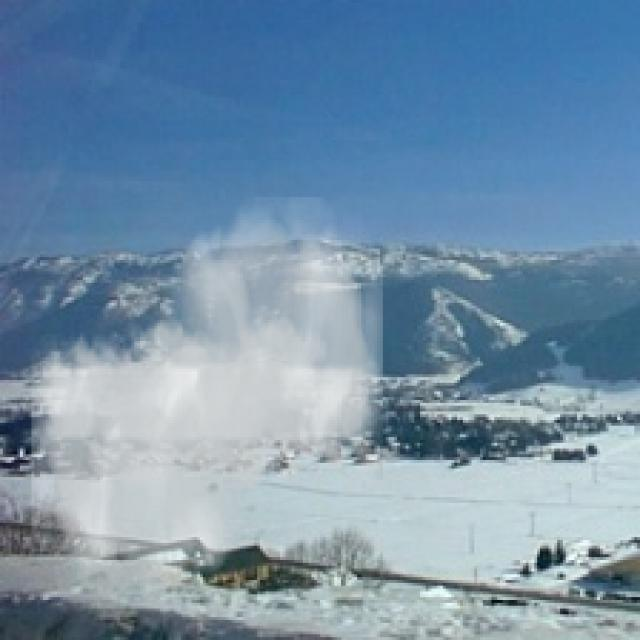Smoke: (31, 197, 383, 609)
